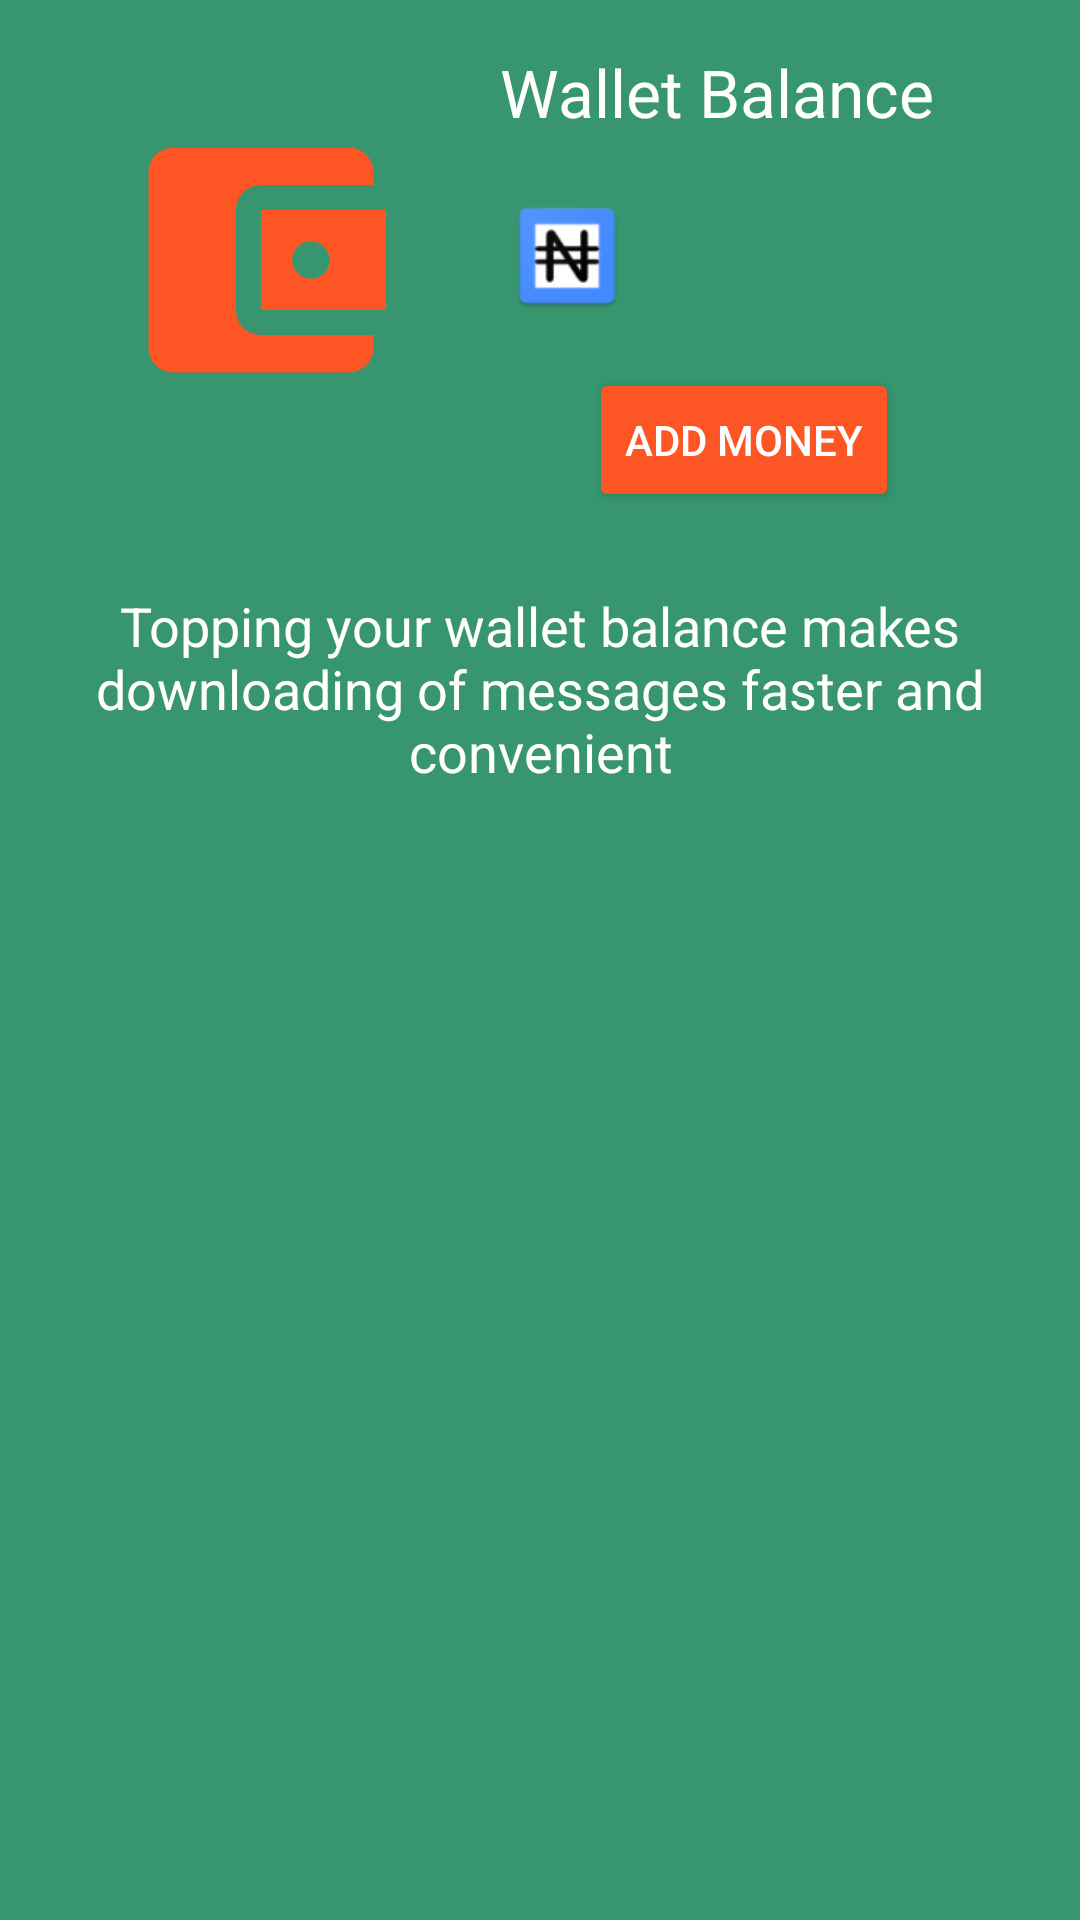

Where icons sit on this 1080px x 1920px app screen, as detection(x1, y1, x2, y2):
account balance wallet blackrrf: detection(148, 147, 386, 373)
naira: detection(519, 207, 616, 305)
